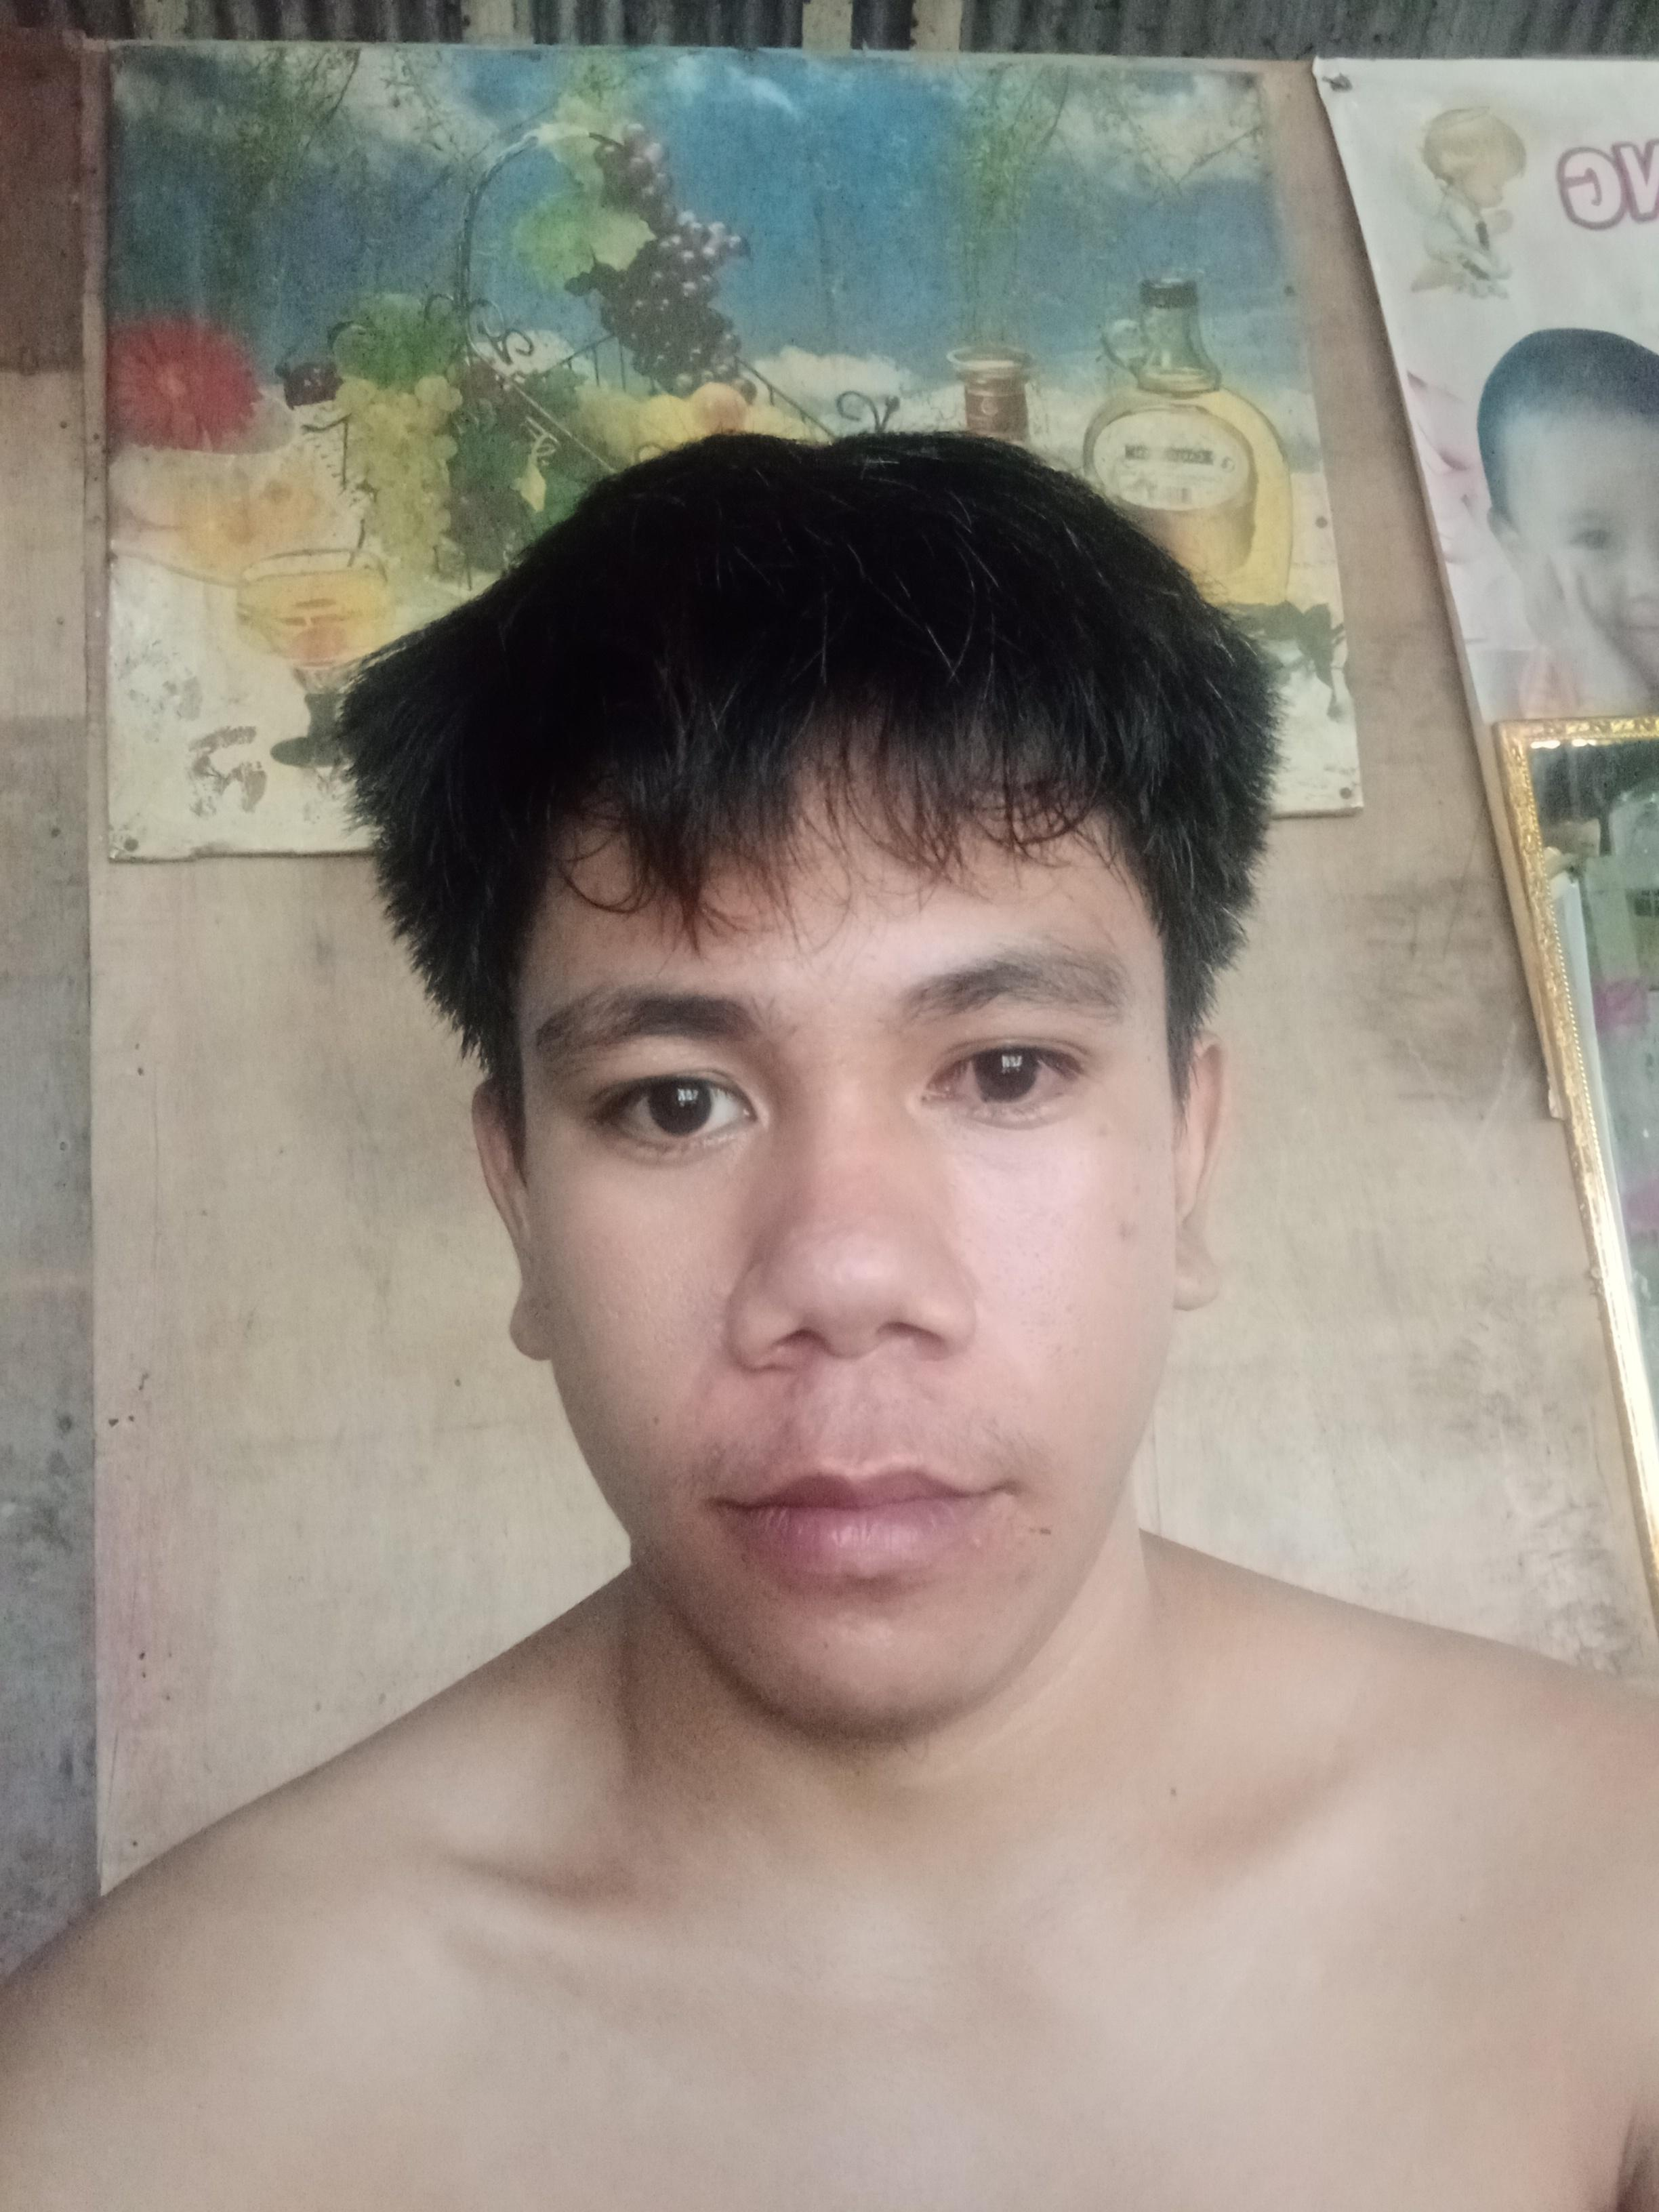Acne: (962, 1529, 999, 1559)
